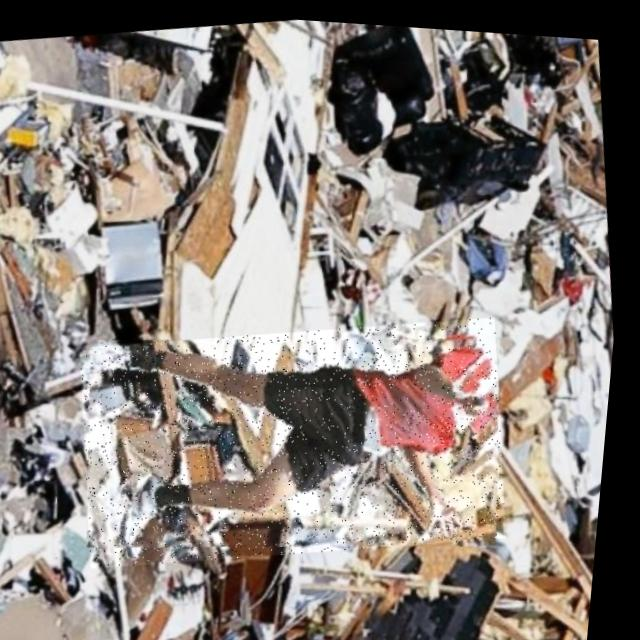Person in Rubble: (69, 289, 530, 588)
